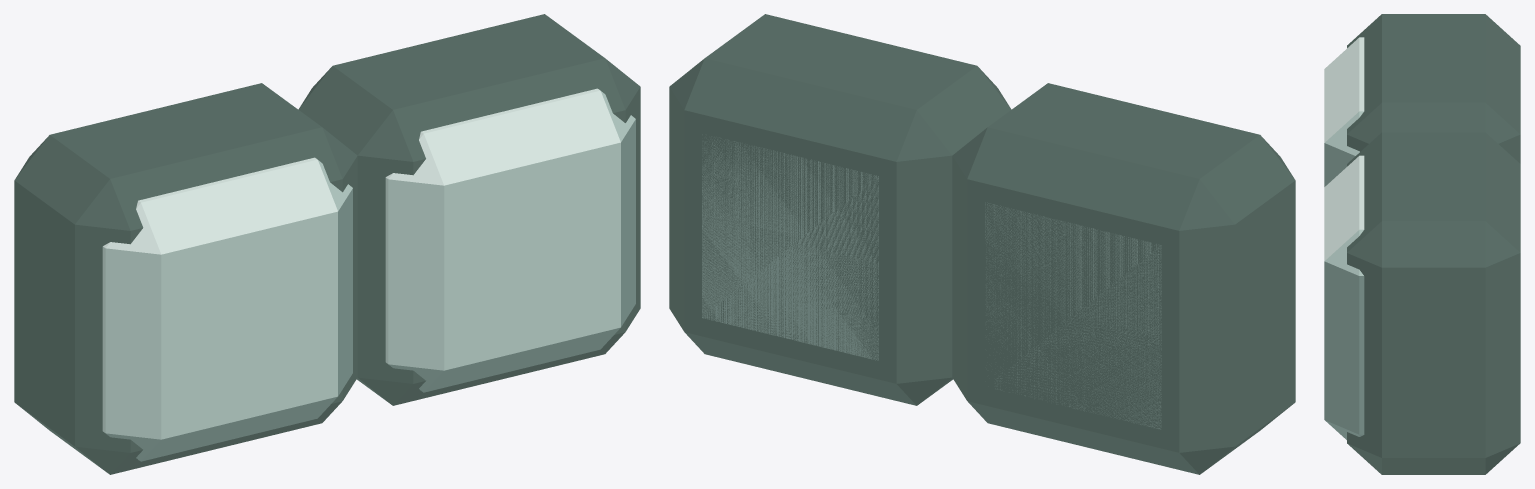
Rendered from Terrain_Block2x1.gltf.
3 renders of one model, left to right at view 1: azimuth 30°, elevation 25°; view 2: azimuth 150°, elevation 25°; view 3: azimuth 270°, elevation 25°, orthographic. The views are drawn at different scales.
Visible parts, largest first — view 1: Terrain_Block2x1_baked; view 2: Terrain_Block2x1_baked; view 3: Terrain_Block2x1_baked.
Boxes of the visible parts, bbox=[...] form: Terrain_Block2x1_baked: bbox=[14, 14, 640, 474]; Terrain_Block2x1_baked: bbox=[669, 14, 1295, 474]; Terrain_Block2x1_baked: bbox=[1324, 14, 1520, 474].
Size of the model in its own units: 2 by 1 by 0.7.
